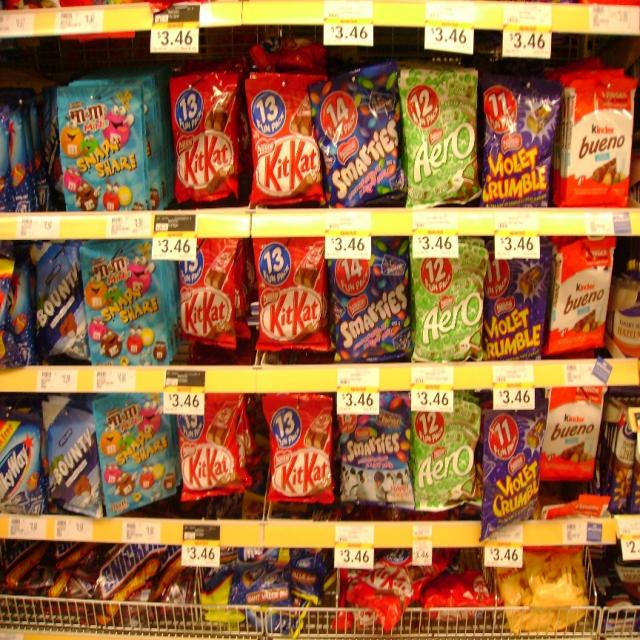q280: (248, 65, 327, 215), (168, 62, 246, 208), (251, 230, 334, 352), (265, 390, 337, 516), (177, 237, 242, 358), (183, 401, 246, 518)
